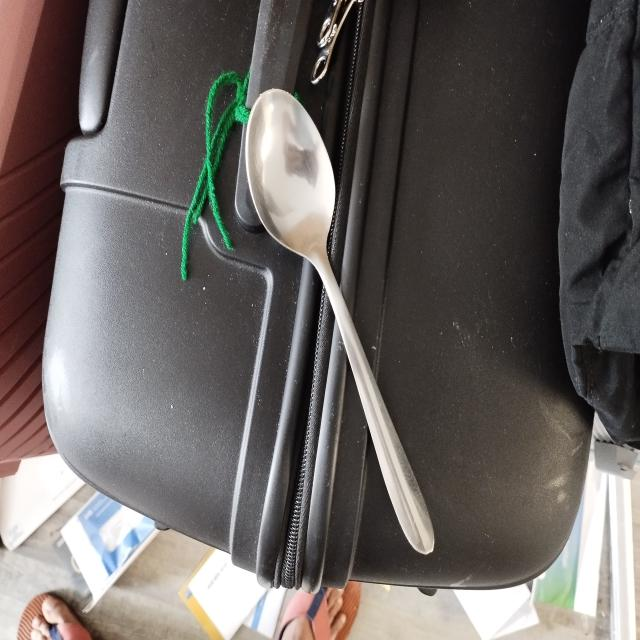Spoon: (230, 86, 463, 560)
